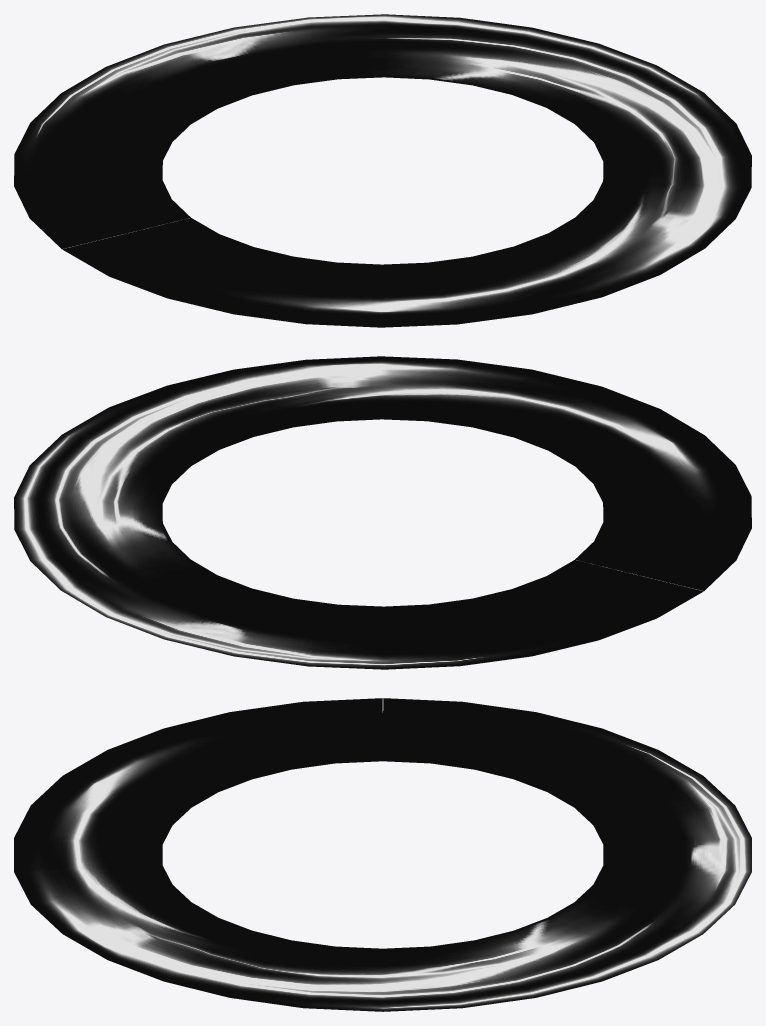
The model's file is 0020_Dian.glb.
The picture shows the model from 3 angles, top to bottom: view 1: azimuth 30°, elevation 25°; view 2: azimuth 150°, elevation 25°; view 3: azimuth 270°, elevation 25°; orthographic projection.
Bounding box in the file's own units: 2.2 × 2.86e-14 × 2.19.
1 material, 1 textured.
